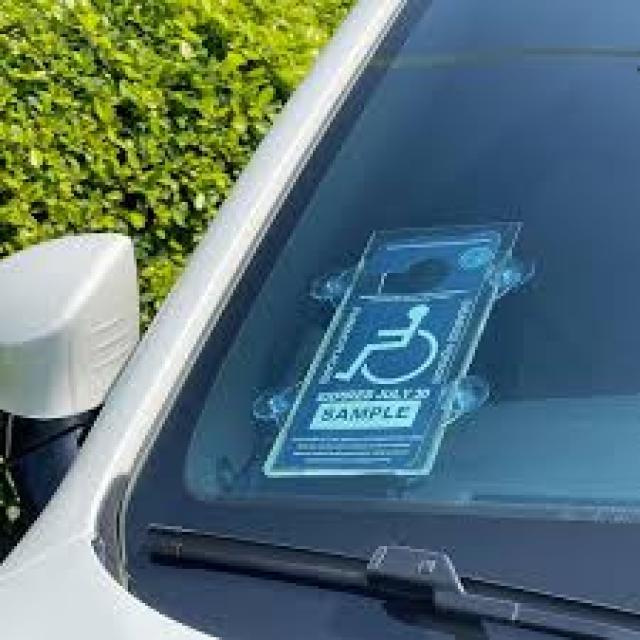symbol_of_access: (336, 304, 440, 386)
